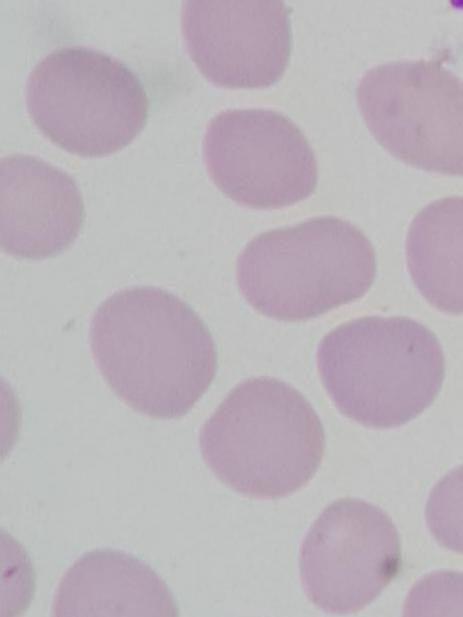Uninfected: (87, 291, 215, 421), (198, 379, 325, 498), (315, 314, 443, 430), (235, 219, 374, 321), (355, 57, 463, 176), (27, 47, 146, 151), (202, 107, 321, 207), (298, 504, 403, 617), (183, 0, 289, 87), (0, 157, 88, 260), (45, 549, 178, 617)
